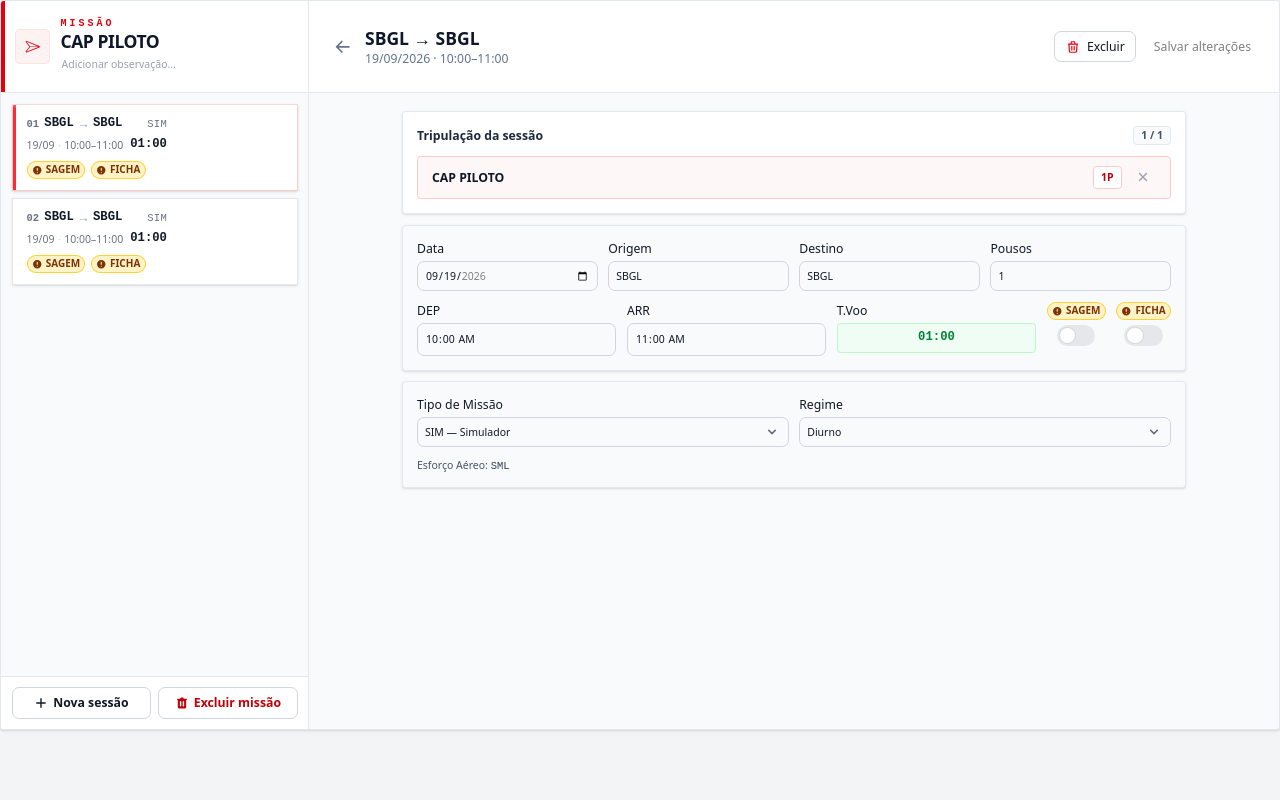
it: rascunhos da missão de simulador › preserva rascunhos e seleção se a exclusão da missão falhar
Step 1. Type "2026-09-20" into the date field labelled "Data" → (507, 276), box [417,260,598,291]
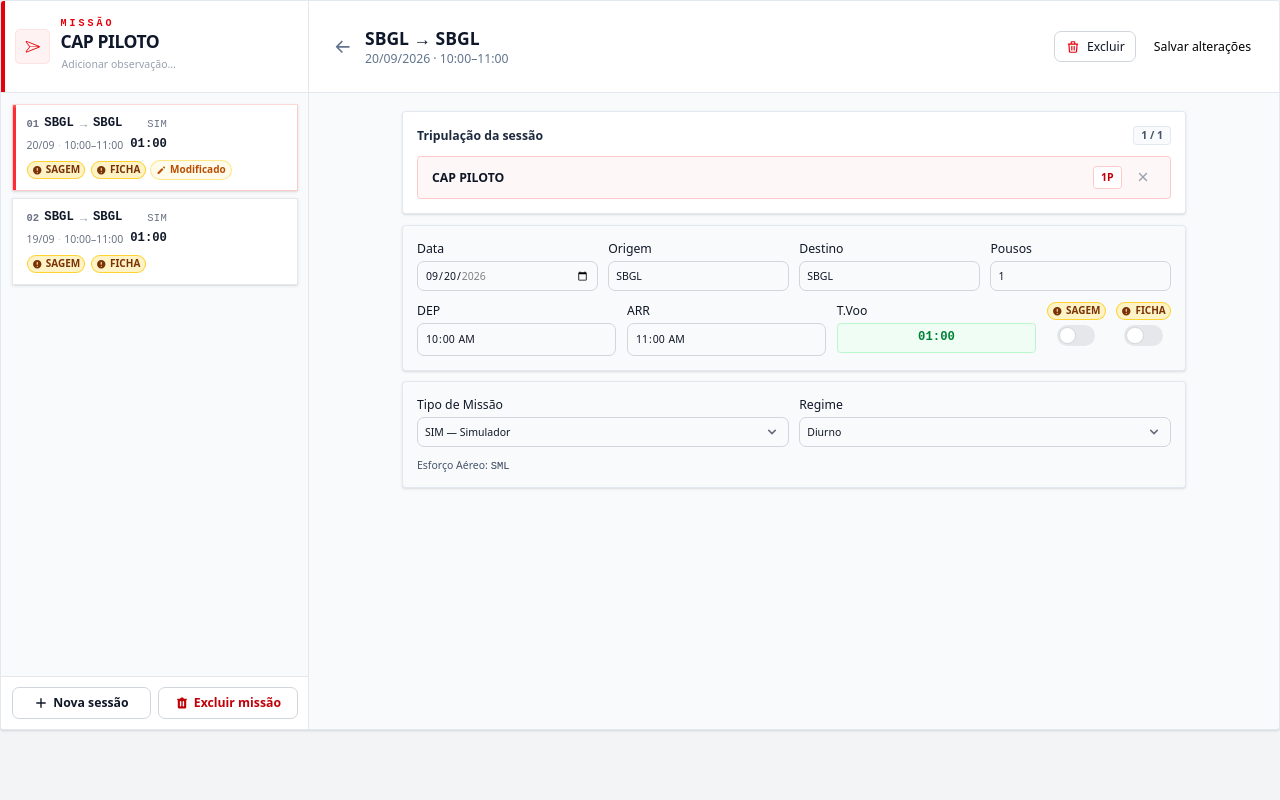
Step 2. Click the button "Nova sessão" → (81, 703), box [12,687,151,718]
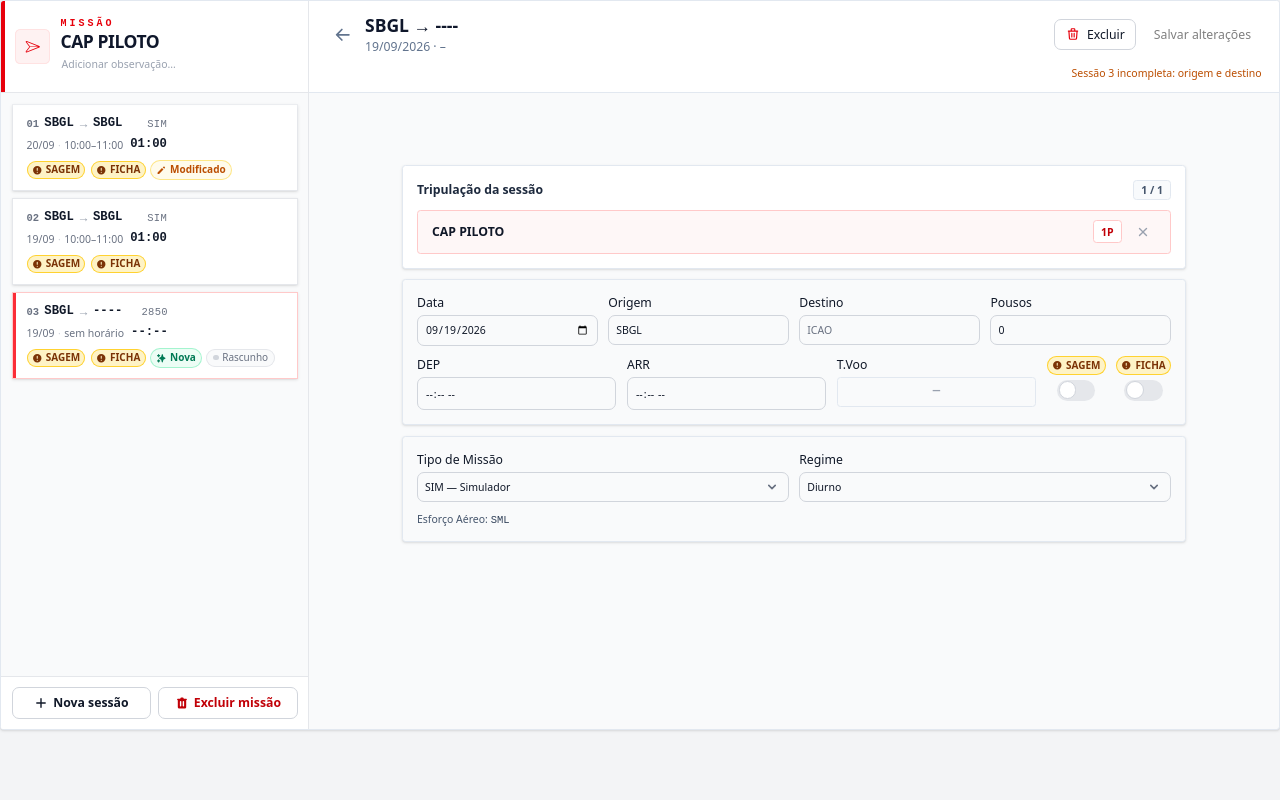
Step 3. Click the button "Excluir missão" → (228, 703), box [158,687,298,718]
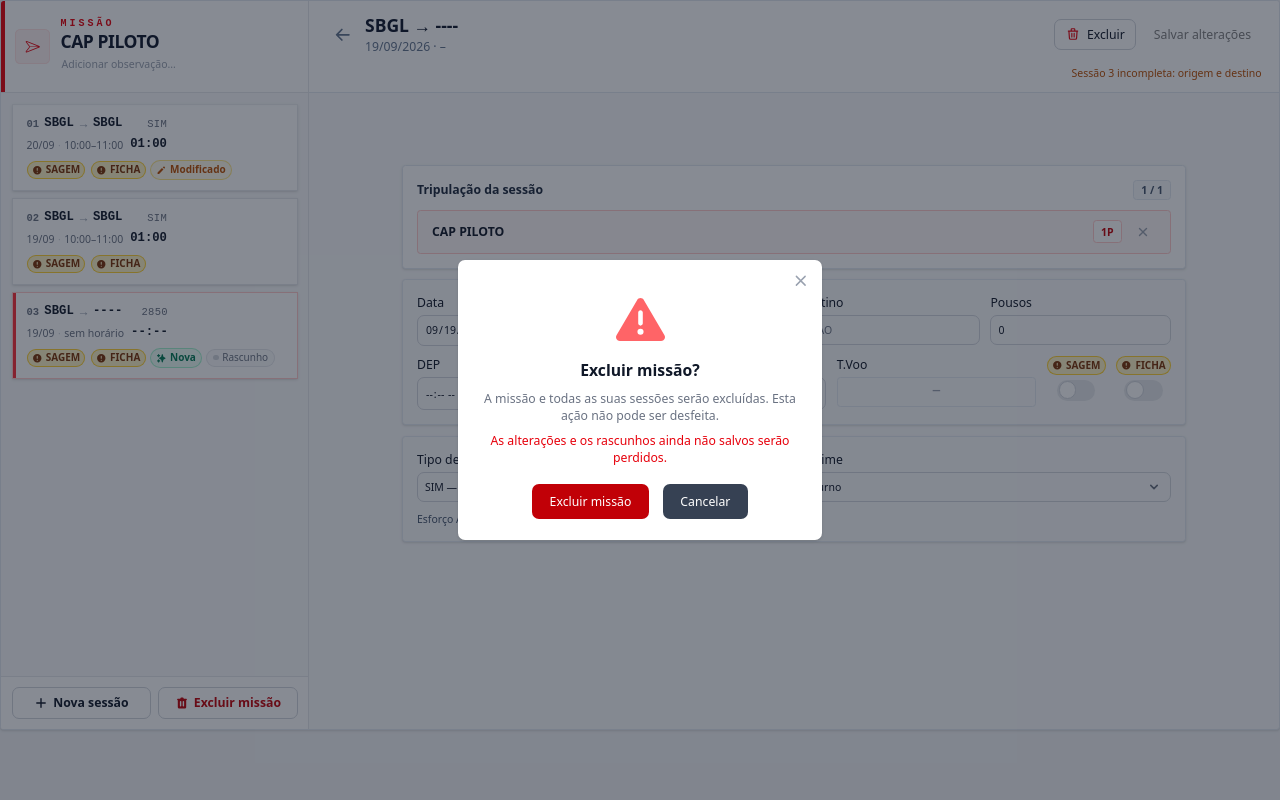
Step 4. Click the button "Excluir missão" → (590, 502), box [532,484,649,519]
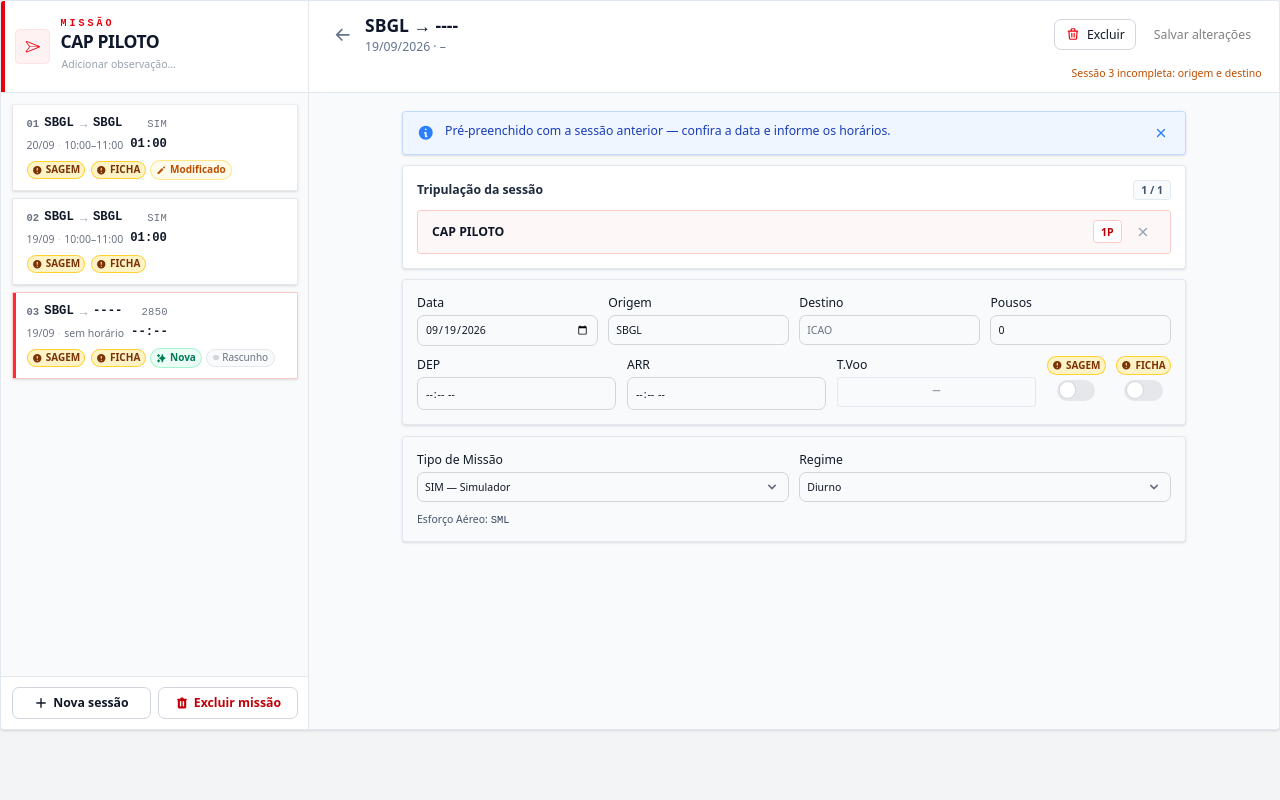
Expected: the text "Modificado" is shown, [151,160,231,179]
Expected: the text "Nova" is shown, [151,348,201,367]
Expected: the number of buttons "→" is 3, [12,104,298,190]; [12,198,298,284]; [12,292,298,378]
